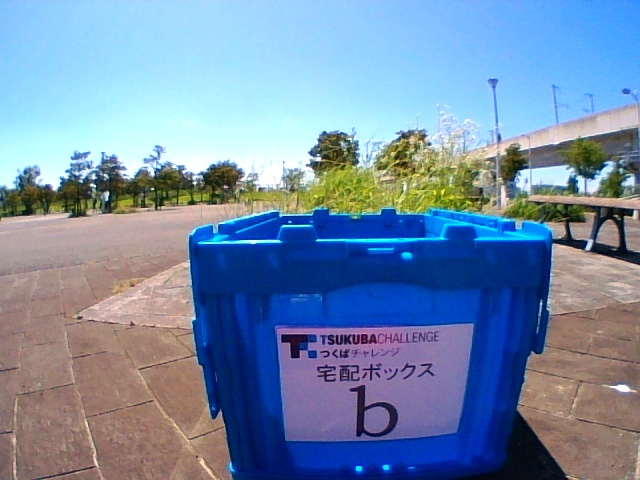blue_box: (188, 208, 552, 478)
tag_b: (283, 331, 455, 434)
